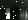person: (21, 8, 27, 20), (7, 6, 11, 19)
